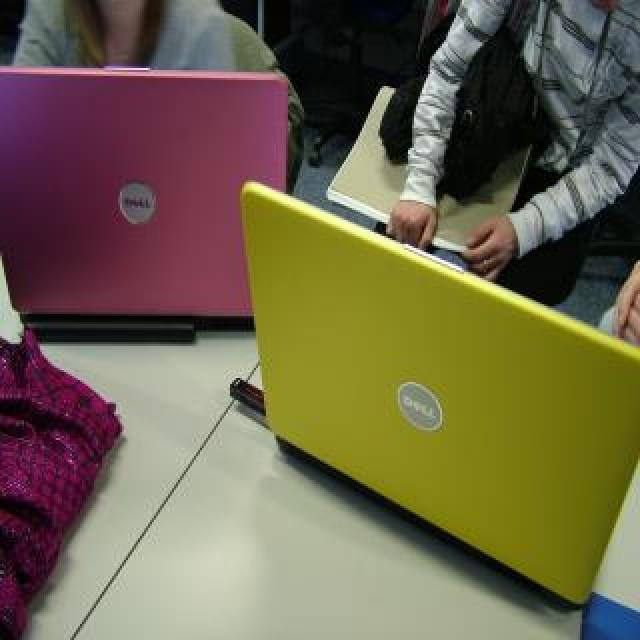laptop_computer: (222, 140, 640, 610), (0, 34, 294, 350)
